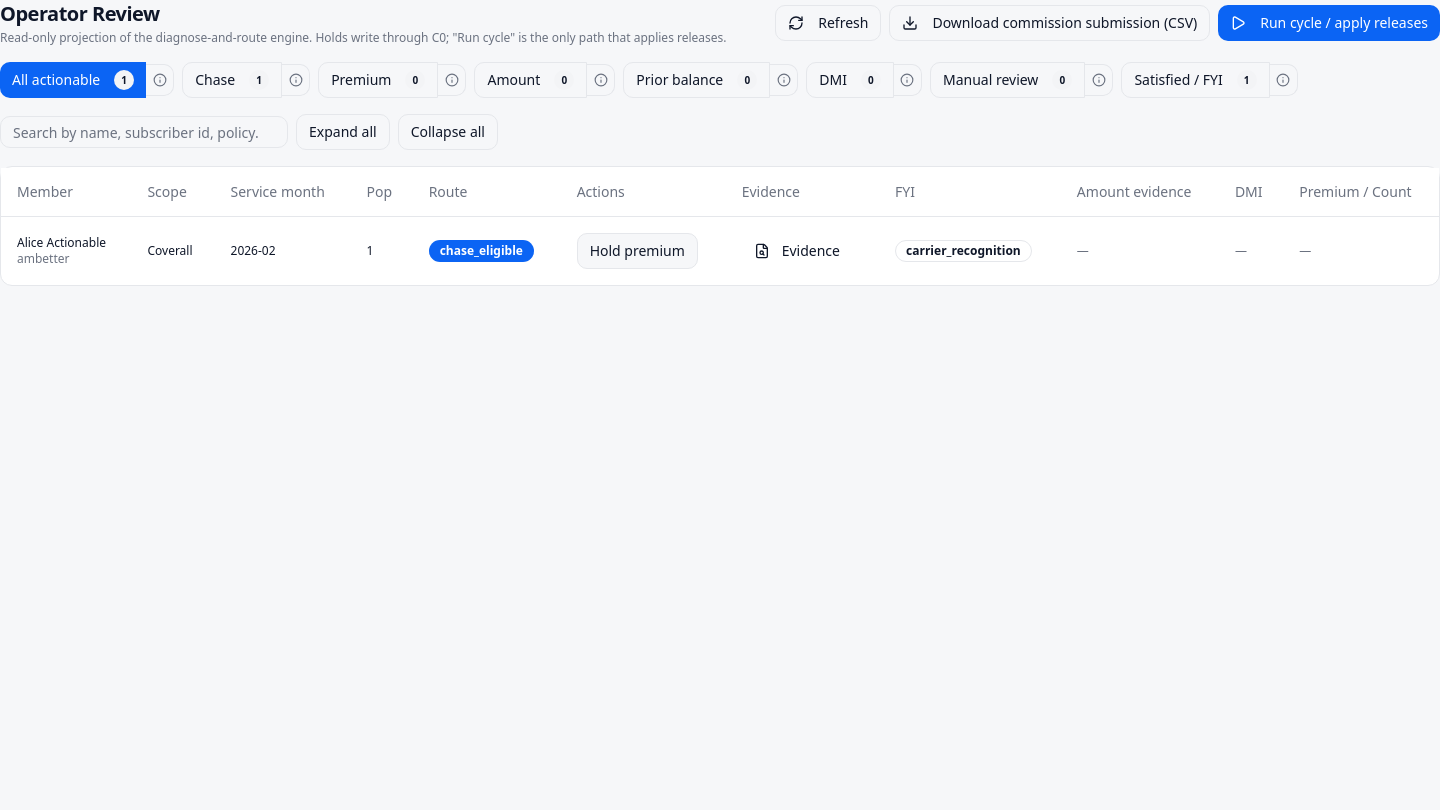
Test: OperatorReviewPage — Stage 3 hold actions + run-cycle › hold-premium on chase row writes correct RecordDecisionInput; row reflects hold after refresh
Later steps or results of the test are not shown.
Expected: the text "Alice Actionable" is shown, x1=17 y1=234 x2=106 y2=250
Click the button with test id "action-hold_premium" at (637, 250), box x1=577 y1=232 x2=698 y2=268
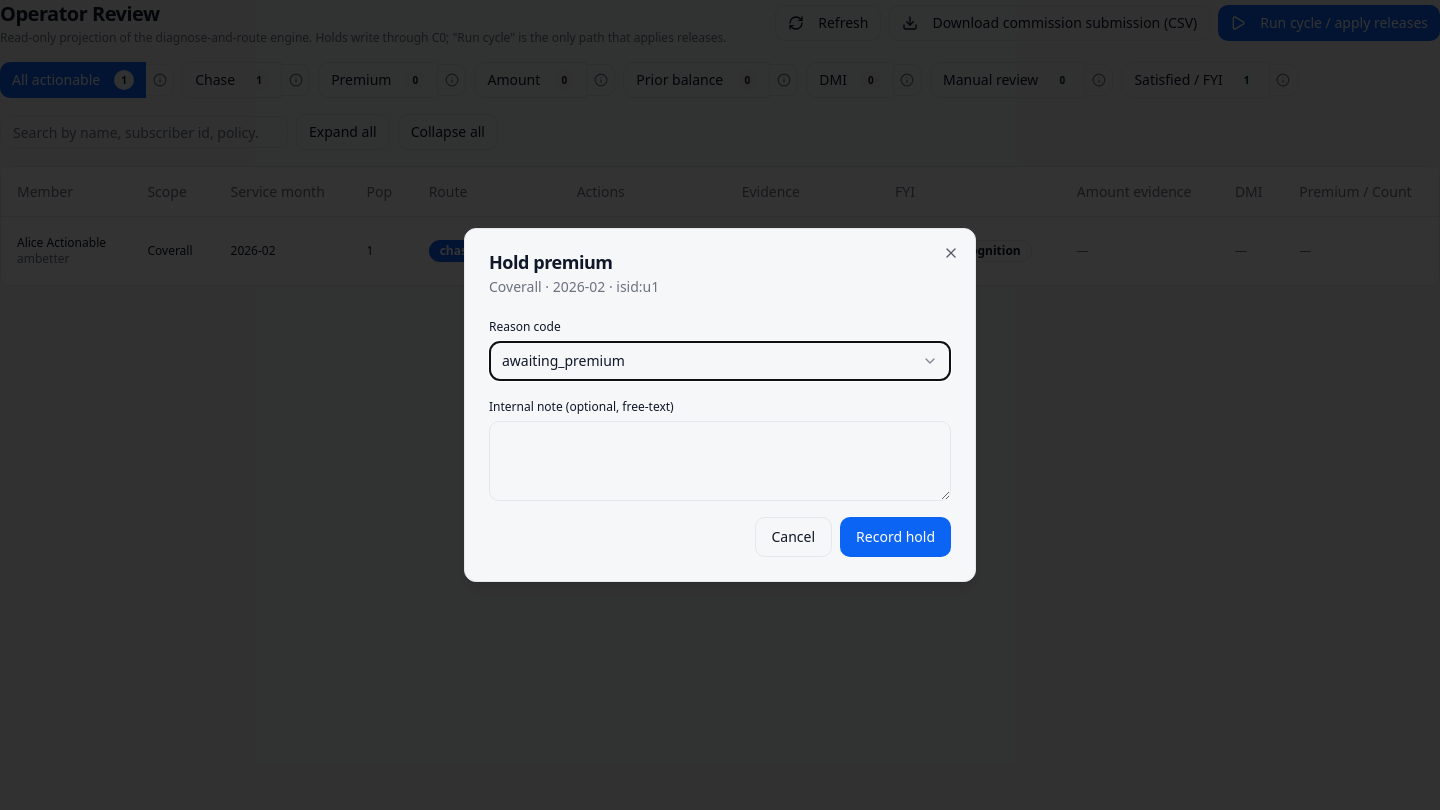
Expected: the dialog with test id "hold-prompt" is shown, x1=464 y1=228 x2=976 y2=582
